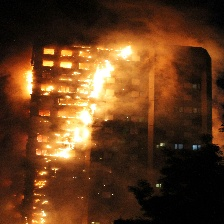fire: (14, 41, 137, 224)
